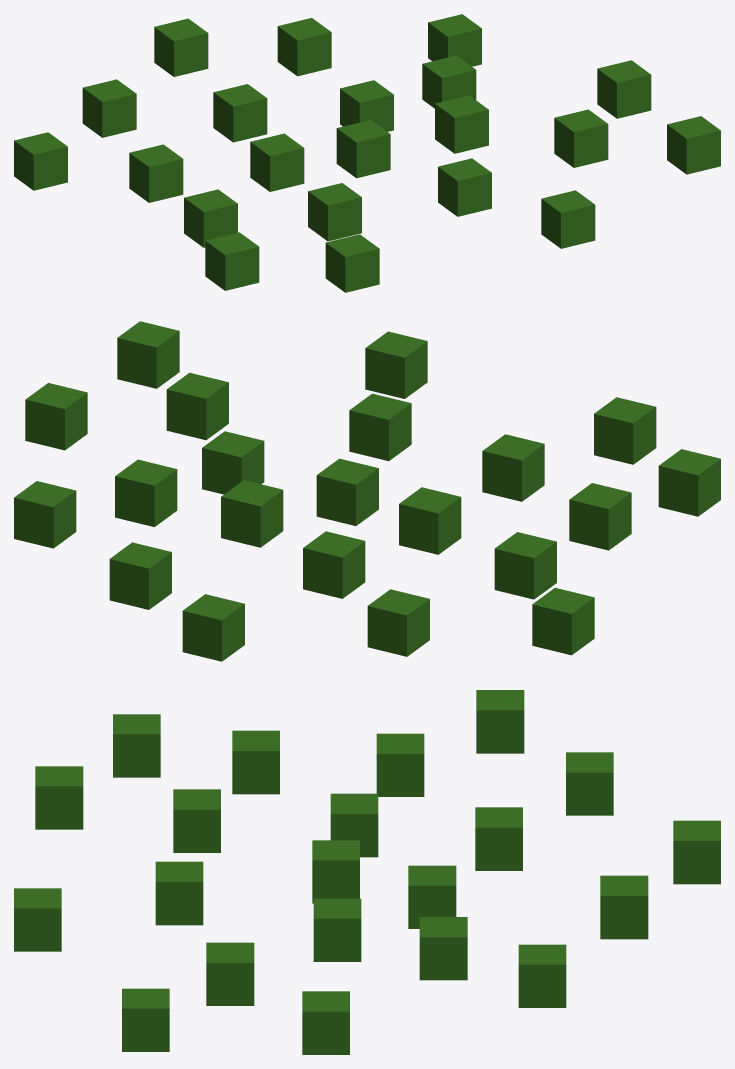
The model's file is seedlings.gltf.
3 views of the same model, one above another, from view 1: azimuth 30°, elevation 25°; view 2: azimuth 150°, elevation 25°; view 3: azimuth 270°, elevation 25° (orthographic). The views are drawn at different scales.
Parts seen in each view (by area): view 1: Cube.020, Cube, Cube.006, Cube.007, Cube.015, Cube.003, Cube.016, Cube.002, Cube.005, Cube.010, Cube.011, Cube.017 (+9 smaller); view 2: Cube.003, Cube.005, Cube.015, Cube.019, Cube, Cube.002, Cube.008, Cube.009, Cube.010, Cube.011, Cube.013, Cube.014 (+9 smaller); view 3: Cube.007, Cube.013, Cube.015, Cube.018, Cube.009, Cube.011, Cube.008, Cube.012, Cube.005, Cube.004, Cube.017, Cube.002 (+9 smaller).
Part boxes in pixels (left/top/right/bottom): Cube.020: left=205, top=232, right=259, bottom=290; Cube: left=336, top=120, right=390, bottom=178; Cube.006: left=82, top=79, right=136, bottom=137; Cube.007: left=277, top=18, right=331, bottom=76; Cube.015: left=325, top=234, right=379, bottom=292; Cube.003: left=250, top=133, right=304, bottom=191; Cube.016: left=541, top=190, right=595, bottom=248; Cube.002: left=213, top=84, right=267, bottom=142; Cube.005: left=129, top=144, right=183, bottom=202; Cube.010: left=597, top=60, right=651, bottom=118; Cube.011: left=554, top=109, right=608, bottom=167; Cube.017: left=154, top=18, right=208, bottom=76; Cube.003: left=399, top=487, right=461, bottom=554; Cube.005: left=494, top=532, right=556, bottom=599; Cube.015: left=594, top=397, right=656, bottom=464; Cube.019: left=117, top=321, right=179, bottom=388; Cube: left=316, top=458, right=378, bottom=525; Cube.002: left=303, top=531, right=365, bottom=598; Cube.008: left=14, top=481, right=76, bottom=548; Cube.009: left=115, top=459, right=177, bottom=526; Cube.010: left=25, top=383, right=87, bottom=450; Cube.011: left=166, top=372, right=228, bottom=440; Cube.013: left=349, top=393, right=411, bottom=461; Cube.014: left=482, top=434, right=544, bottom=501; Cube.007: left=600, top=875, right=648, bottom=939; Cube.013: left=155, top=861, right=203, bottom=925; Cube.015: left=35, top=766, right=83, bottom=829; Cube.018: left=476, top=690, right=524, bottom=753; Cube.009: left=419, top=917, right=467, bottom=980; Cube.011: left=206, top=942, right=254, bottom=1005; Cube.008: left=518, top=944, right=566, bottom=1007; Cube.012: left=313, top=898, right=361, bottom=961; Cube.005: left=376, top=733, right=424, bottom=796; Cube.004: left=232, top=730, right=279, bottom=794; Cube.017: left=673, top=820, right=720, bottom=884; Cube.002: left=475, top=807, right=522, bottom=870.
Bounding box in the file's own units: 1.59 × 0.1 × 1.48.
